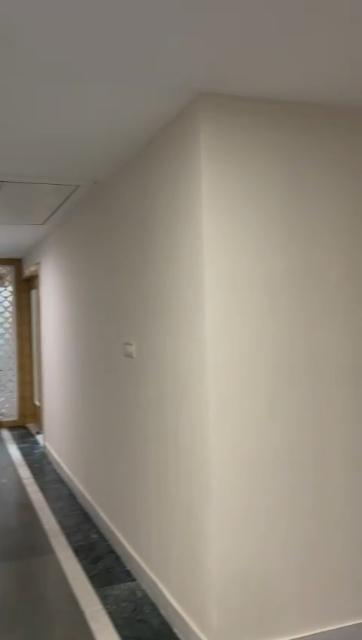door: (0, 264, 42, 424)
floor: (0, 428, 171, 640)
wall: (40, 90, 362, 639)
